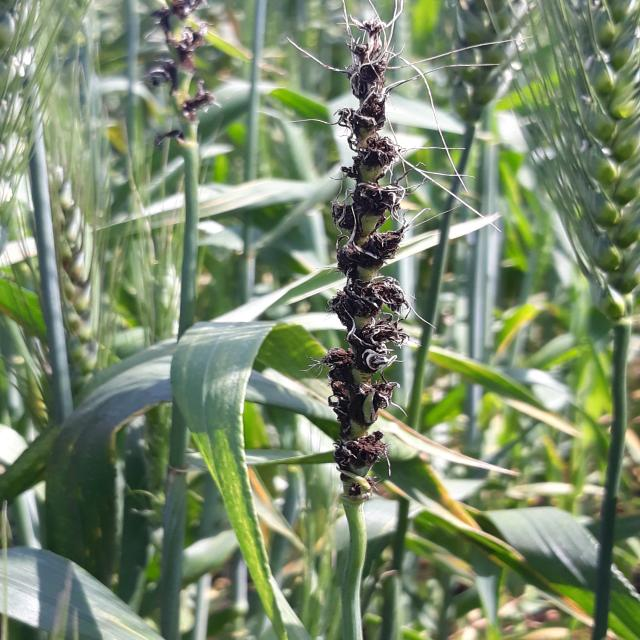loose_charred: (316, 20, 468, 594), (118, 0, 276, 235)
